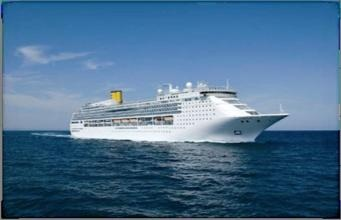youlun: (59, 83, 293, 141)
